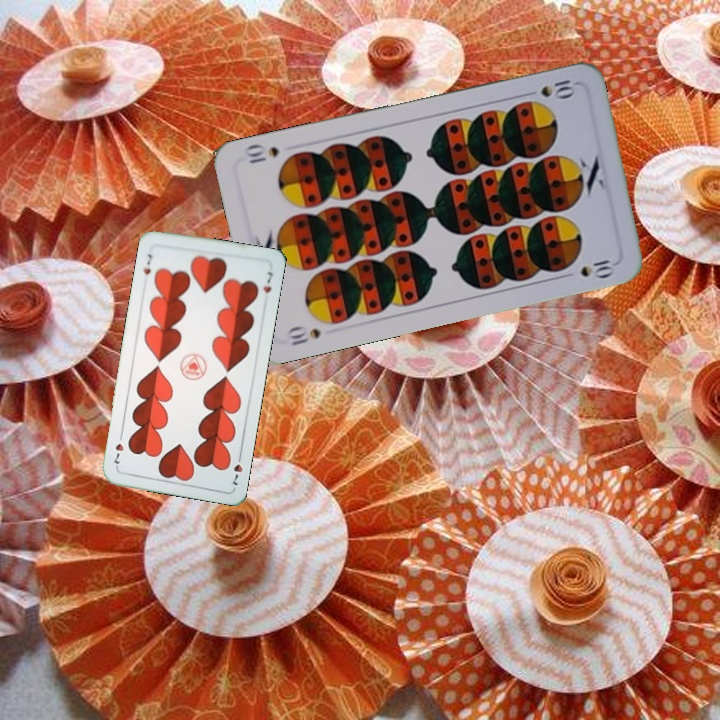H7: (228, 449, 245, 488), (139, 250, 155, 279)
S10: (520, 75, 577, 101), (284, 322, 324, 348)
